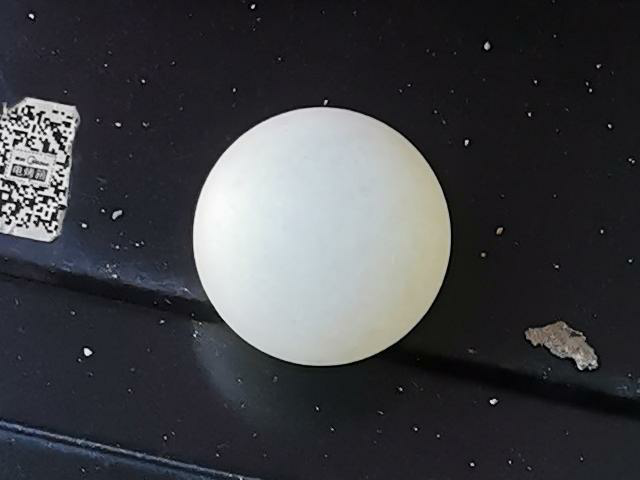ball: (193, 106, 451, 369)
